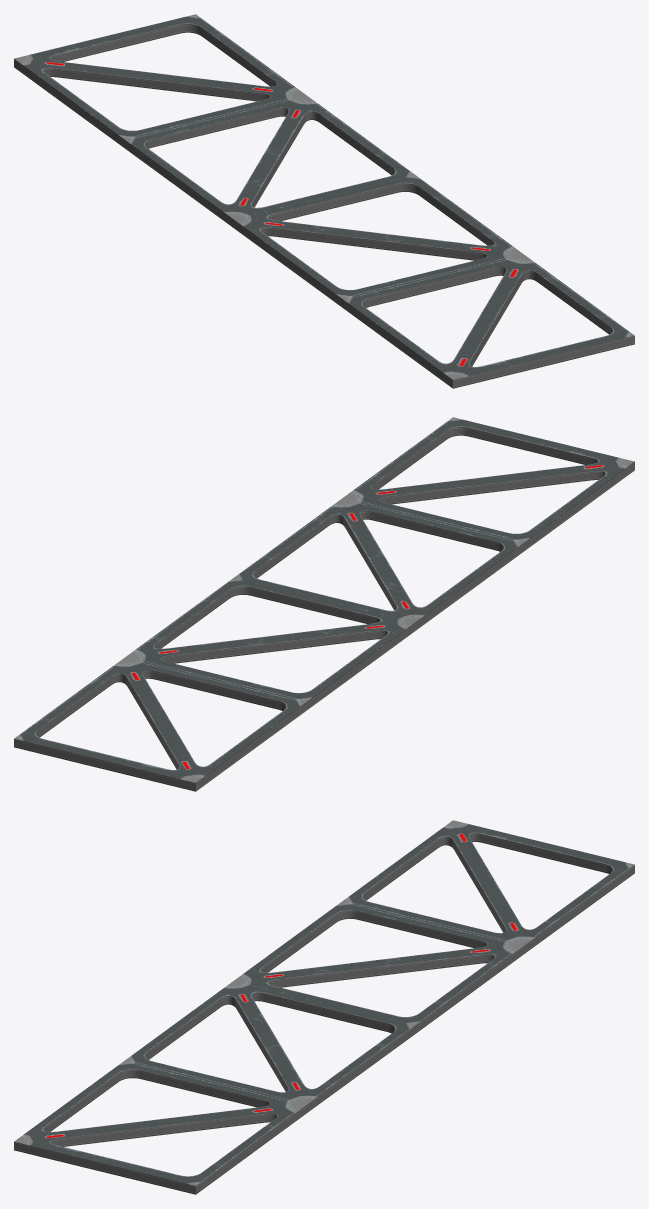
File: Column_MetalSupport.glb
The picture shows the model from 3 angles, top to bottom: view 1: azimuth 30°, elevation 25°; view 2: azimuth 150°, elevation 25°; view 3: azimuth 330°, elevation 25°; orthographic projection.
Parts seen in each view (by area): view 1: Column_MetalSupport; view 2: Column_MetalSupport; view 3: Column_MetalSupport.
Part boxes in pixels (x1=…): Column_MetalSupport: x1=14, y1=14, x2=634, y2=388; Column_MetalSupport: x1=14, y1=417, x2=634, y2=791; Column_MetalSupport: x1=14, y1=820, x2=634, y2=1194.
Size of the model in its own units: 0.9566 by 0.0439 by 4.
2 materials, 2 textured.
